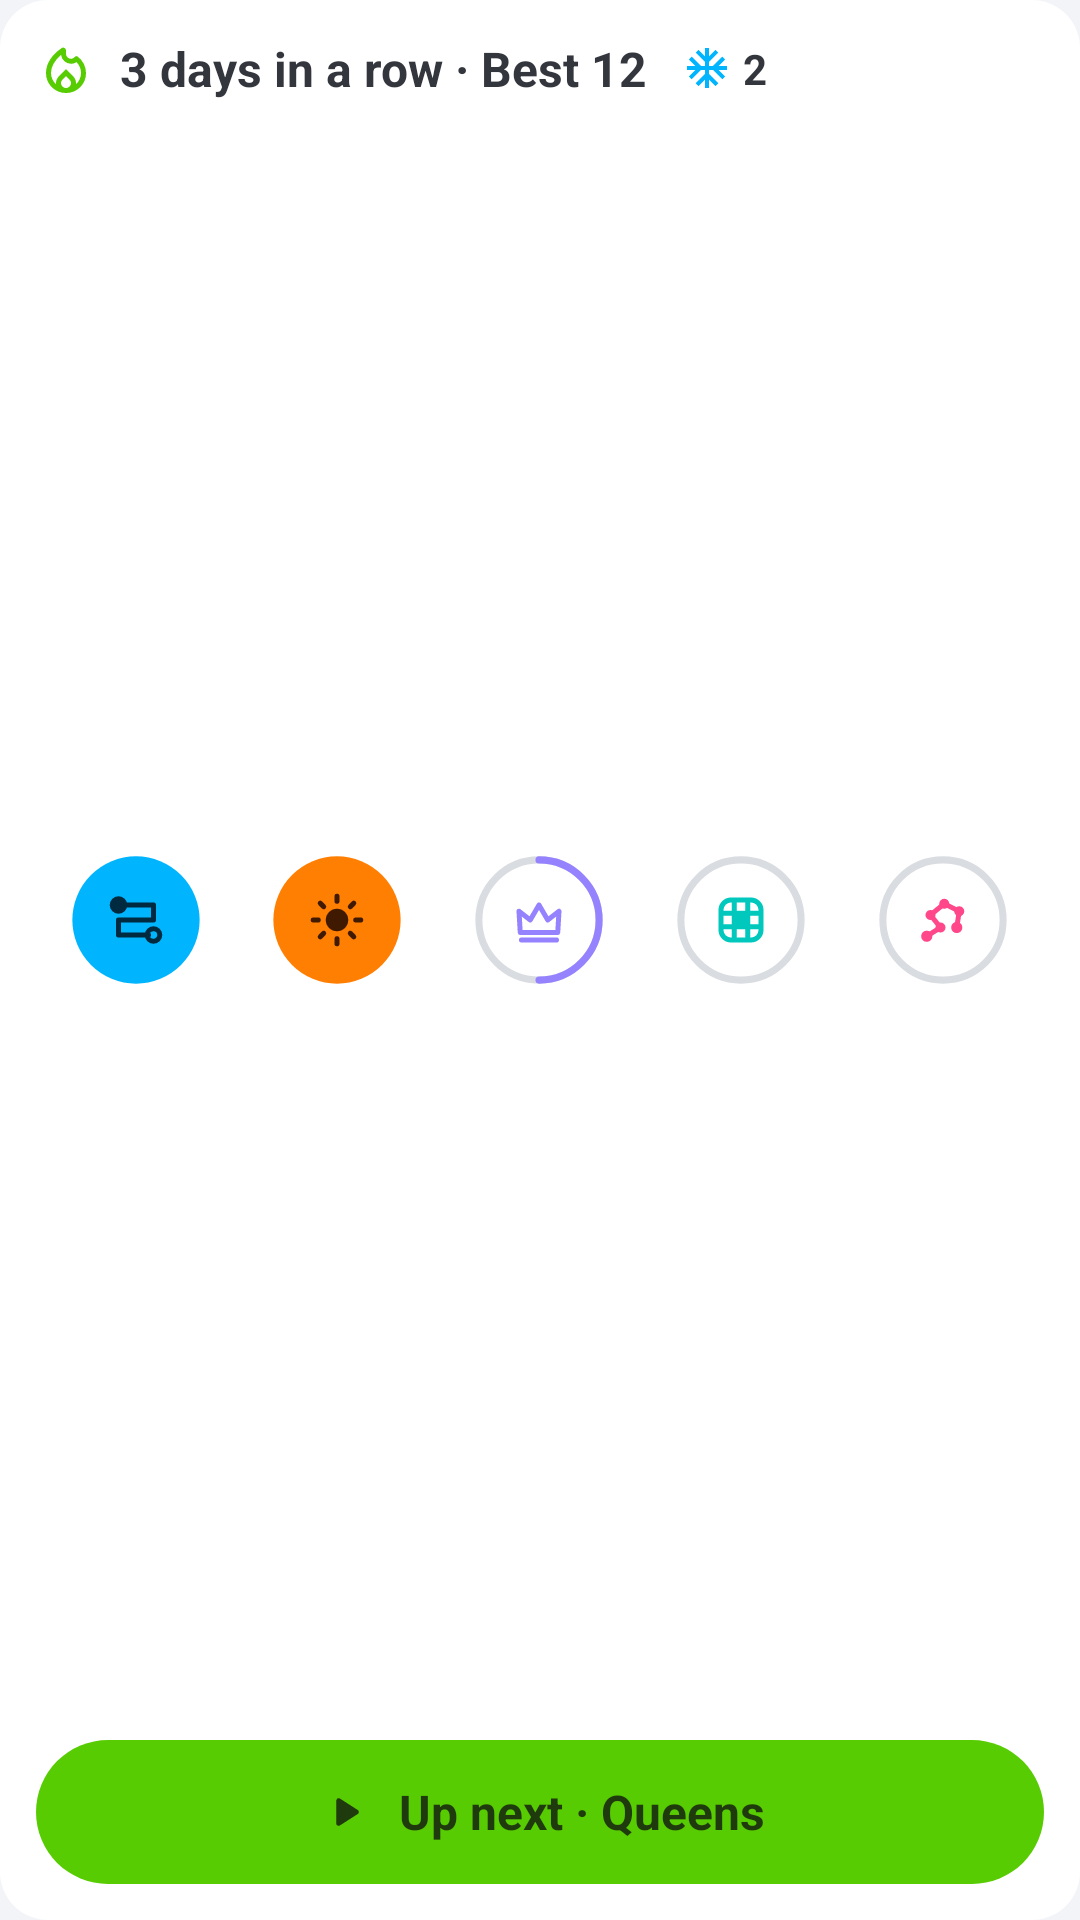

Icons on this 1080w x 1920h Android screen, each with its box as (x1, y1, x2, y2):
widget flame: (46, 47, 86, 93)
widget play: (336, 1798, 359, 1826)
widget snowflake: (687, 48, 727, 88)
